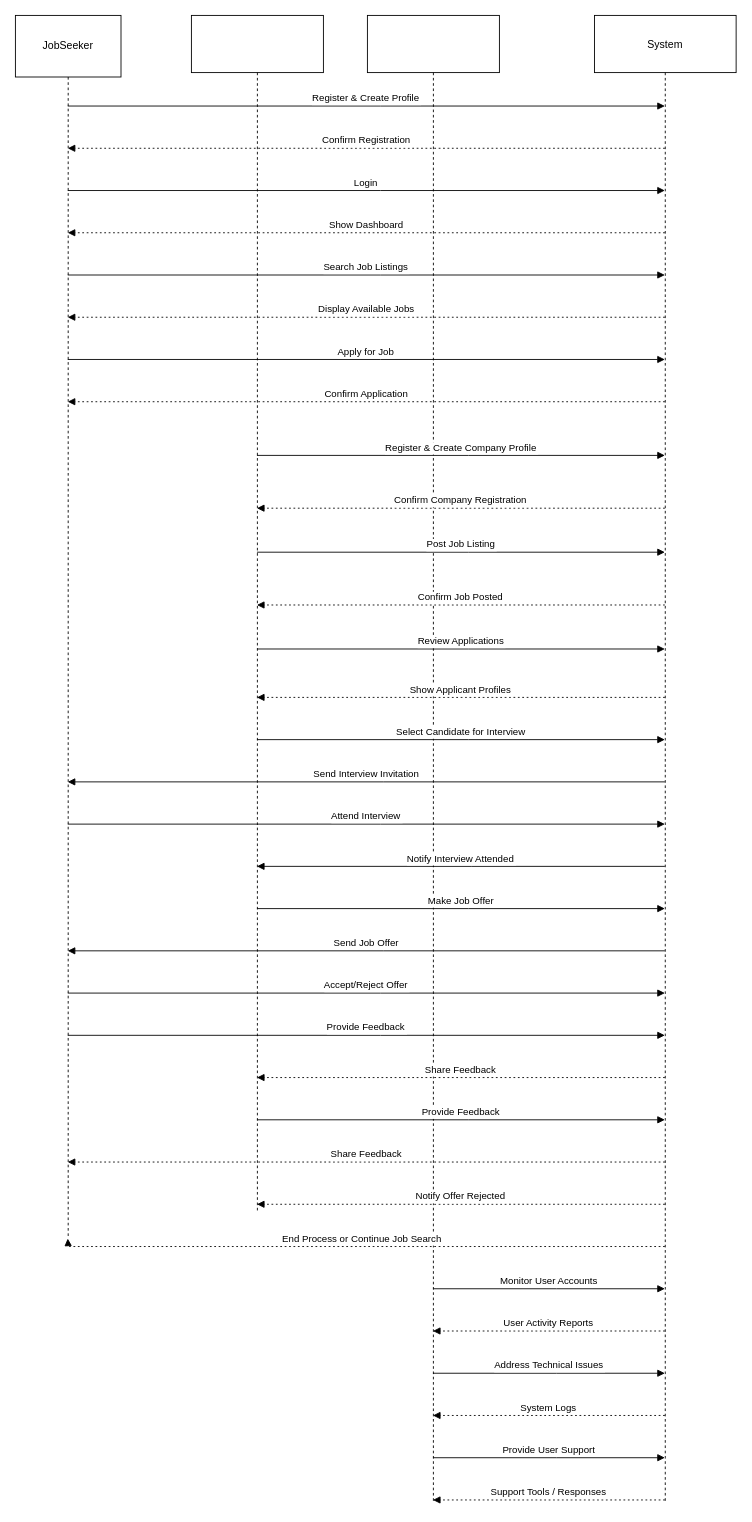
Some shapes in this 752 by 1522 pixel diagram are drawn without their labels. The box of each missing label's shape, as (x1, y1, x2, y2) in pixels:
Administrator: (367, 15, 499, 1503)
Employer: (191, 15, 323, 1212)
